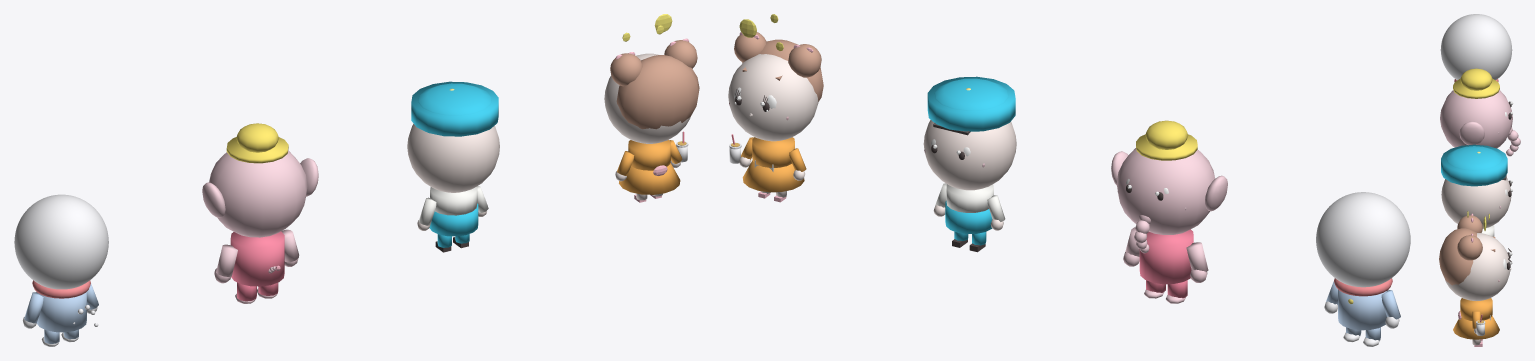
Rendered from all_characters.glb.
3 views of the same model, side by side, from view 1: azimuth 30°, elevation 25°; view 2: azimuth 150°, elevation 25°; view 3: azimuth 270°, elevation 25° (orthographic). The views are drawn at different scales.
Parts seen in each view (by area): view 1: Cat_Head, Eleph_Head, TT_Head, Idol_BackHair, Eleph_Body, TT_Cap, TT_CapDome, Idol_Head, Cat_Body, Idol_Skirt, Idol_Chest, TT_Chest (+8 smaller); view 2: Cat_Head, Eleph_Head, Idol_Head, TT_Head, Eleph_Body, TT_Cap, TT_CapDome, Cat_Body, Idol_Skirt, Idol_Chest, TT_Chest, TT_Overalls (+7 smaller); view 3: Cat_Head, Eleph_Head, TT_Head, Idol_Head, TT_Cap, Idol_BackHair, TT_CapDome, Idol_Skirt, Idol_Chest, Eleph_HatTop, Eleph_HatBrim, Idol_Bun_R (+6 smaller).
Part boxes in pixels (<box>): Cat_Head: <box>14,194,108,289</box>; Eleph_Head: <box>209,150,307,237</box>; TT_Head: <box>407,123,499,192</box>; Idol_BackHair: <box>616,55,699,129</box>; Eleph_Body: <box>230,231,284,286</box>; TT_Cap: <box>411,81,498,136</box>; TT_CapDome: <box>418,83,491,115</box>; Idol_Head: <box>604,53,690,143</box>; Cat_Body: <box>36,292,86,332</box>; Idol_Skirt: <box>619,163,680,194</box>; Idol_Chest: <box>628,140,670,170</box>; TT_Chest: <box>430,187,477,215</box>; Cat_Head: <box>1316,192,1410,287</box>; Eleph_Head: <box>1116,148,1215,234</box>; Idol_Head: <box>728,54,818,141</box>; TT_Head: <box>923,120,1016,190</box>; Eleph_Body: <box>1139,229,1193,284</box>; TT_Cap: <box>927,76,1015,131</box>; TT_CapDome: <box>934,78,1008,110</box>; Cat_Body: <box>1338,289,1388,330</box>; Idol_Skirt: <box>742,160,804,192</box>; Idol_Chest: <box>752,137,794,167</box>; TT_Chest: <box>946,184,993,212</box>; TT_Overalls: <box>945,200,992,233</box>; Cat_Head: <box>1440,14,1512,80</box>; Eleph_Head: <box>1440,90,1512,148</box>; TT_Head: <box>1441,177,1511,228</box>; Idol_Head: <box>1445,233,1510,300</box>; TT_Cap: <box>1441,144,1507,186</box>; Idol_BackHair: <box>1439,228,1476,285</box>; TT_CapDome: <box>1446,146,1502,170</box>; Idol_Skirt: <box>1453,315,1499,339</box>; Idol_Chest: <box>1460,298,1492,320</box>; Eleph_HatTop: <box>1460,68,1492,90</box>; Eleph_HatBrim: <box>1453,78,1499,98</box>; Idol_Bun_R: <box>1457,235,1482,260</box>.
Size of the model in its own units: 13.68 by 3.56 by 1.92.
